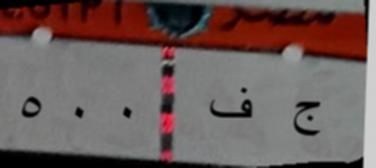0: (60, 96, 97, 122), (114, 99, 138, 129)
5: (14, 87, 50, 131)
faa: (205, 82, 255, 126)
jeem: (281, 93, 326, 149)
